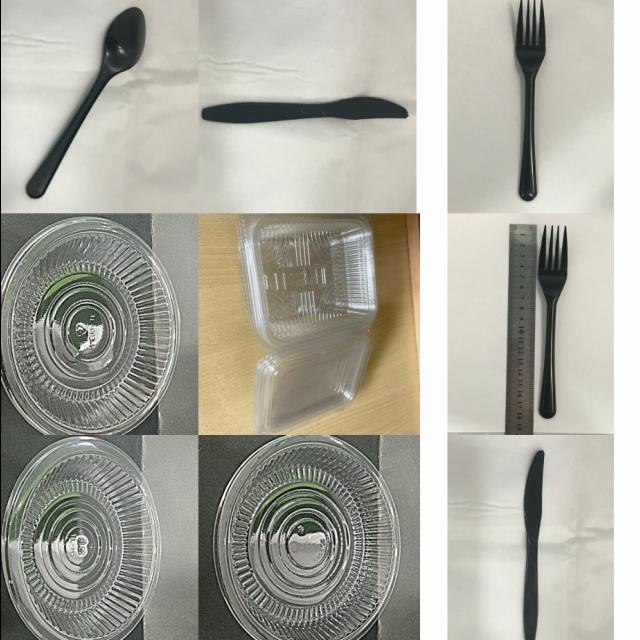plastik: (0, 216, 178, 433), (215, 438, 398, 640), (0, 437, 159, 640), (237, 215, 376, 433), (26, 9, 145, 198), (515, 0, 545, 201), (537, 227, 567, 419), (201, 97, 407, 124), (523, 450, 543, 640)
